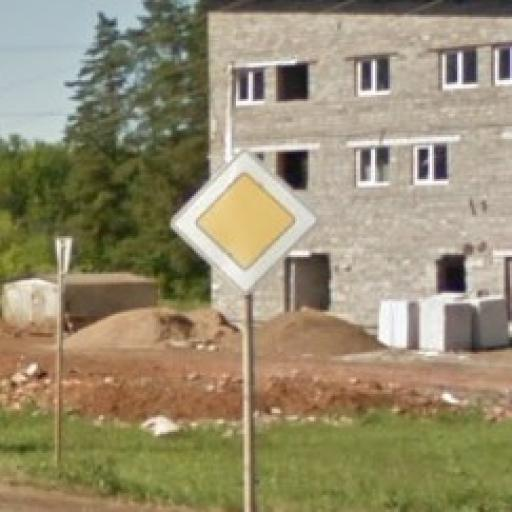traffic_sign: (168, 151, 322, 298)
